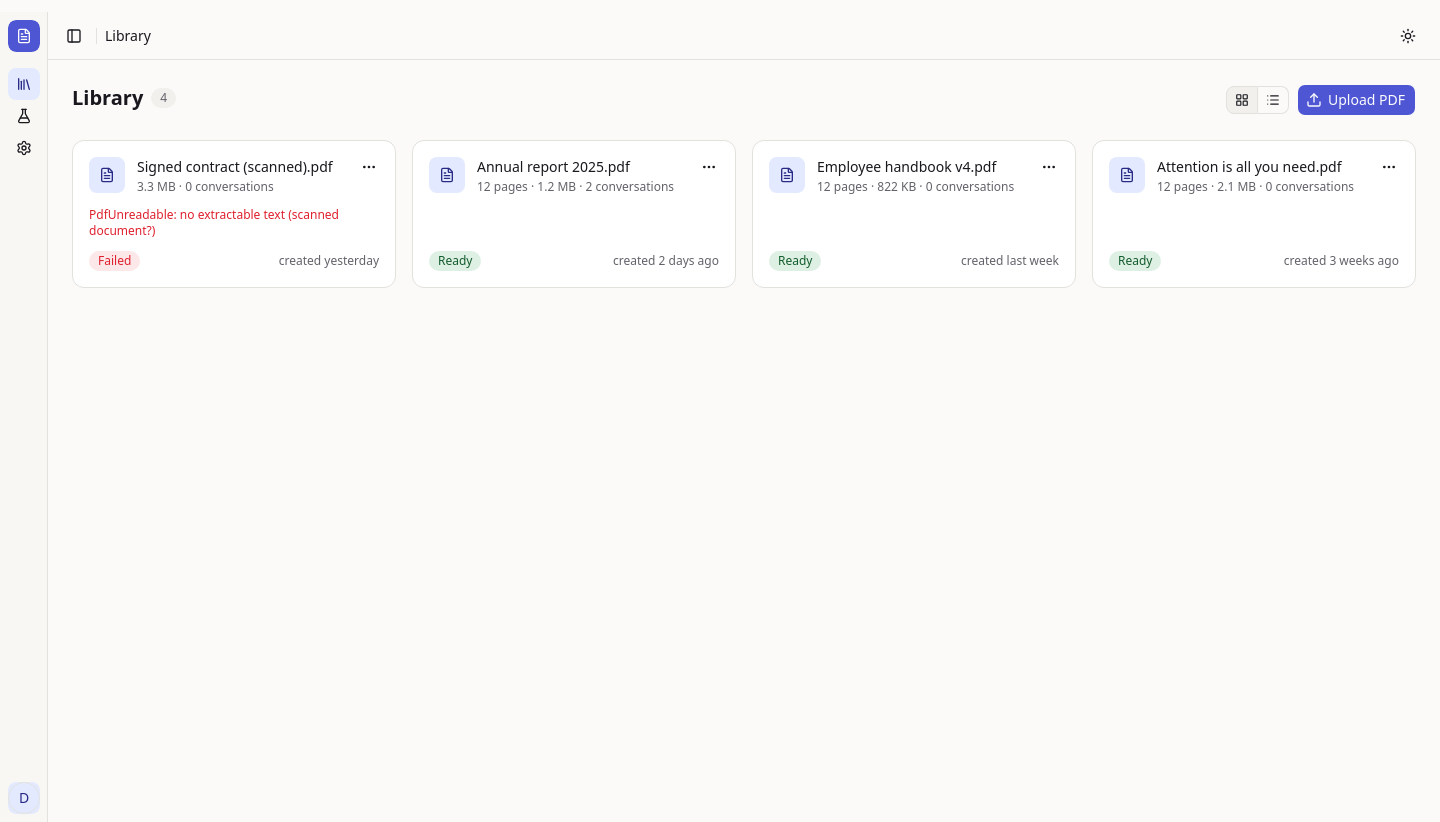
library › switches to the table view
This screenshot has width=1440, height=822.
Expected: the link "Annual report 2025.pdf" is shown, [477,157,630,176]
Step 1. Click the button named "Table view" → (1274, 100), box [1258,86,1289,114]
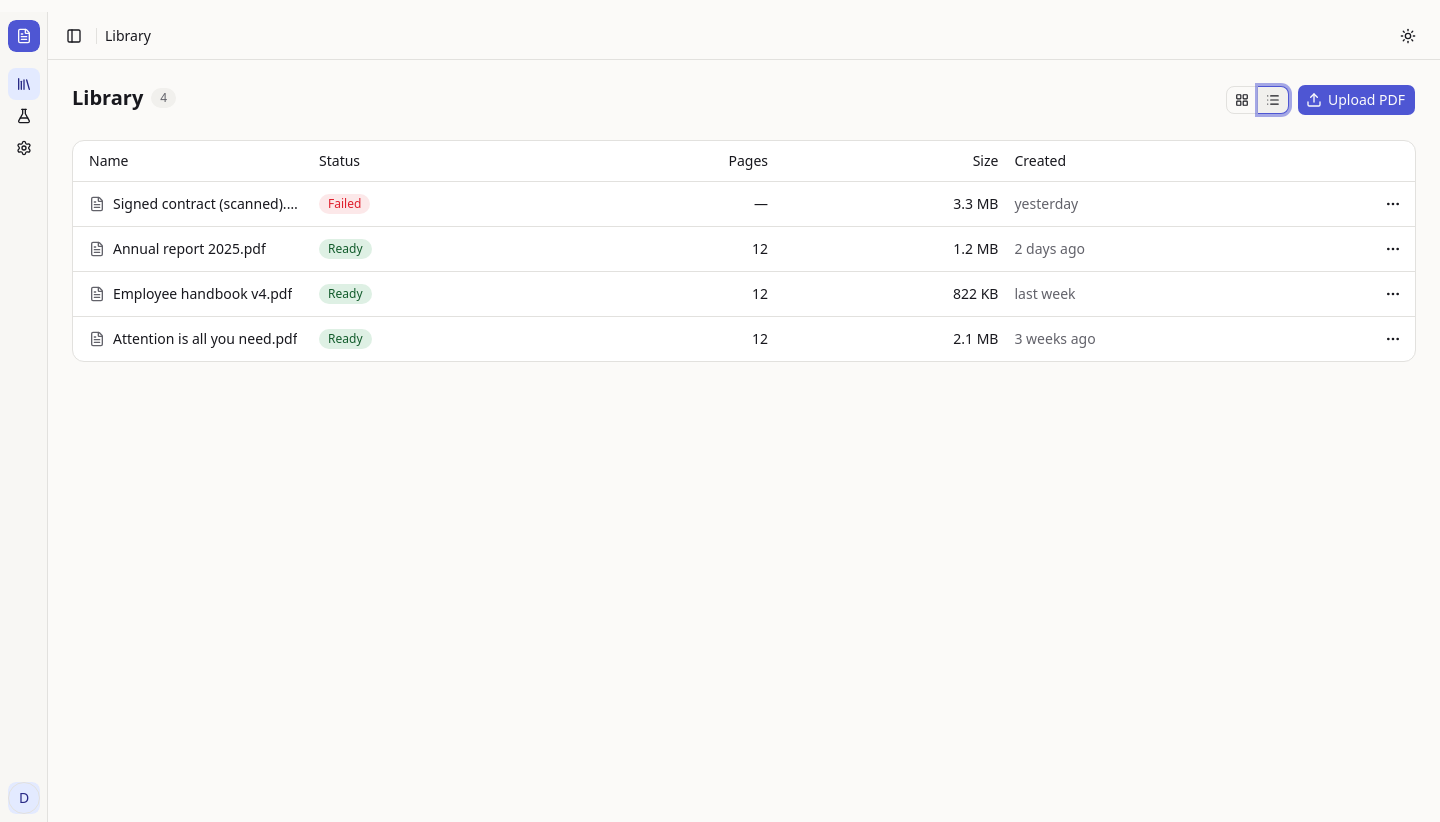
Expected: the table is shown, [73,141,1415,360]
